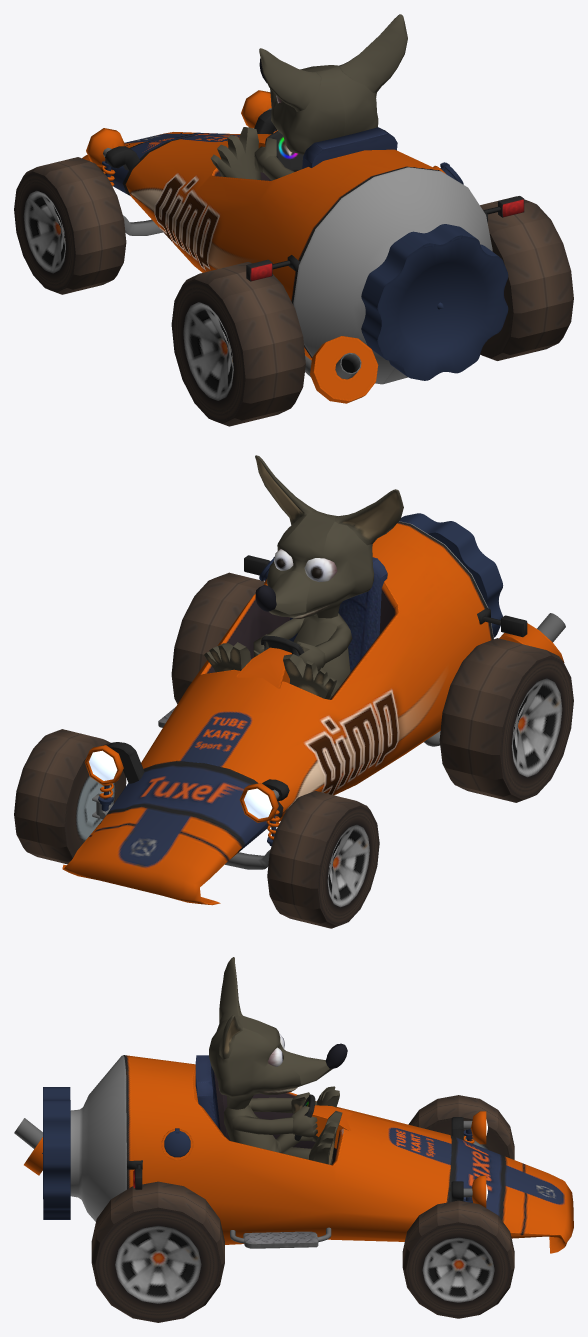
The model's file is kart-wilber.glb.
3 renders of one model, top to bottom at view 1: azimuth 30°, elevation 25°; view 2: azimuth 150°, elevation 25°; view 3: azimuth 270°, elevation 25°, orthographic. The views are drawn at different scales.
Visible parts, largest first — view 1: wilber_diffuse_2.png__, wilber_diffuse_1.png__, wilber_diffuse_1.png__.003, wilber_diffuse_1.png__.001, wilber_diffuse_1.png__.004; view 2: wilber_diffuse_1.png__, wilber_diffuse_2.png__, wilber_diffuse_1.png__.003, wilber_diffuse_1.png__.001, wilber_diffuse_1.png__.002, wilber_diffuse_1.png__.004, stk_headLight_a.png__; view 3: wilber_diffuse_1.png__, wilber_diffuse_2.png__, wilber_diffuse_1.png__.004, wilber_diffuse_1.png__.002, wilber_diffuse_1.png__.001.
Boxes of the visible parts, <box> form: wilber_diffuse_2.png__: <box>102,14,508,384</box>; wilber_diffuse_1.png__: <box>82,90,524,403</box>; wilber_diffuse_1.png__.003: <box>171,262,305,426</box>; wilber_diffuse_1.png__.001: <box>14,157,126,294</box>; wilber_diffuse_1.png__.004: <box>480,196,573,360</box>; wilber_diffuse_1.png__: <box>62,521,564,905</box>; wilber_diffuse_2.png__: <box>92,455,565,869</box>; wilber_diffuse_1.png__.003: <box>439,638,573,802</box>; wilber_diffuse_1.png__.001: <box>267,791,379,928</box>; wilber_diffuse_1.png__.002: <box>14,729,126,864</box>; wilber_diffuse_1.png__.004: <box>171,572,264,703</box>; stk_headLight_a.png__: <box>89,750,272,818</box>; wilber_diffuse_1.png__: <box>24,1055,573,1253</box>; wilber_diffuse_2.png__: <box>14,957,473,1243</box>; wilber_diffuse_1.png__.004: <box>91,1181,224,1322</box>; wilber_diffuse_1.png__.002: <box>402,1200,514,1318</box>; wilber_diffuse_1.png__.001: <box>408,1095,514,1159</box>.
Size of the model in its own units: 0.9917 by 0.9199 by 1.72.
7 materials, 6 textured.
